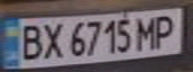1: (100, 17, 121, 54)
5: (115, 16, 136, 52)
6: (66, 19, 87, 57)
7: (84, 17, 103, 56)
B: (15, 21, 45, 62)
M: (133, 13, 160, 51)
P: (148, 11, 181, 50)
X: (39, 20, 66, 61)
